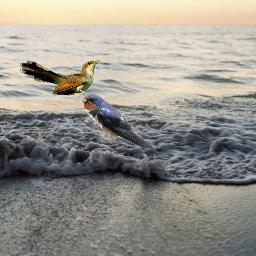Cuckoo: (20, 60, 101, 96)
Swallow: (81, 93, 155, 149)
